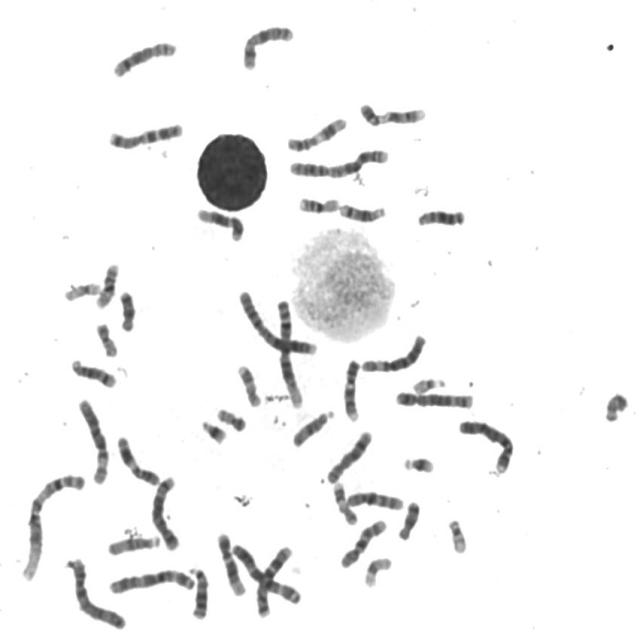A1: (17, 468, 88, 582), (273, 294, 307, 410)
A2: (234, 286, 320, 356), (285, 143, 393, 180)
A3: (228, 538, 304, 606), (106, 564, 198, 596)
B4: (64, 552, 128, 632), (455, 414, 517, 476)
B5: (148, 469, 183, 552), (392, 385, 477, 410)
C10: (337, 514, 390, 570), (344, 486, 406, 512)
C11: (114, 431, 163, 488), (284, 112, 349, 153)
C12: (214, 528, 248, 597), (194, 202, 248, 243)
C6: (75, 393, 112, 486), (358, 329, 429, 374)
C7: (252, 540, 296, 619), (106, 116, 186, 150)
C8: (324, 425, 376, 485), (109, 36, 180, 78)
C9: (356, 97, 429, 127), (340, 354, 363, 423)
D13: (186, 561, 212, 621), (414, 203, 468, 228)
D14: (68, 353, 120, 390), (335, 197, 389, 224)
D15: (290, 404, 338, 449), (105, 530, 163, 557)
E16: (92, 258, 122, 310), (295, 190, 342, 215)
E17: (330, 476, 361, 526), (234, 359, 265, 408)
E18: (395, 495, 423, 542), (116, 286, 138, 334)
F19: (361, 552, 396, 589), (61, 276, 103, 303)
F20: (92, 317, 120, 358), (213, 402, 250, 433)
G21: (198, 414, 230, 445), (400, 450, 438, 476)
G22: (445, 514, 470, 556), (410, 372, 449, 396)
X: (239, 20, 296, 71)
Y: (601, 386, 632, 424)
